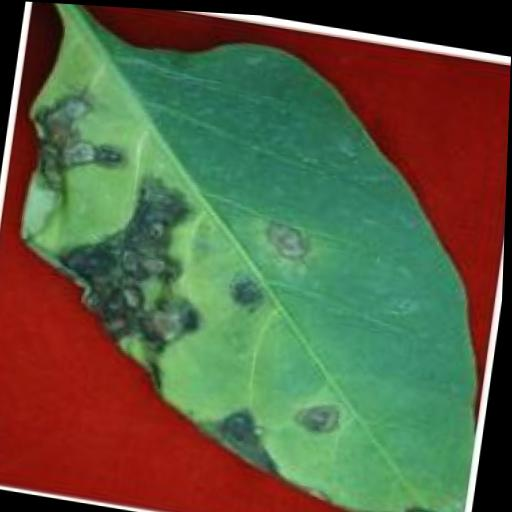Bacterial Spot: (0, 6, 512, 512)
